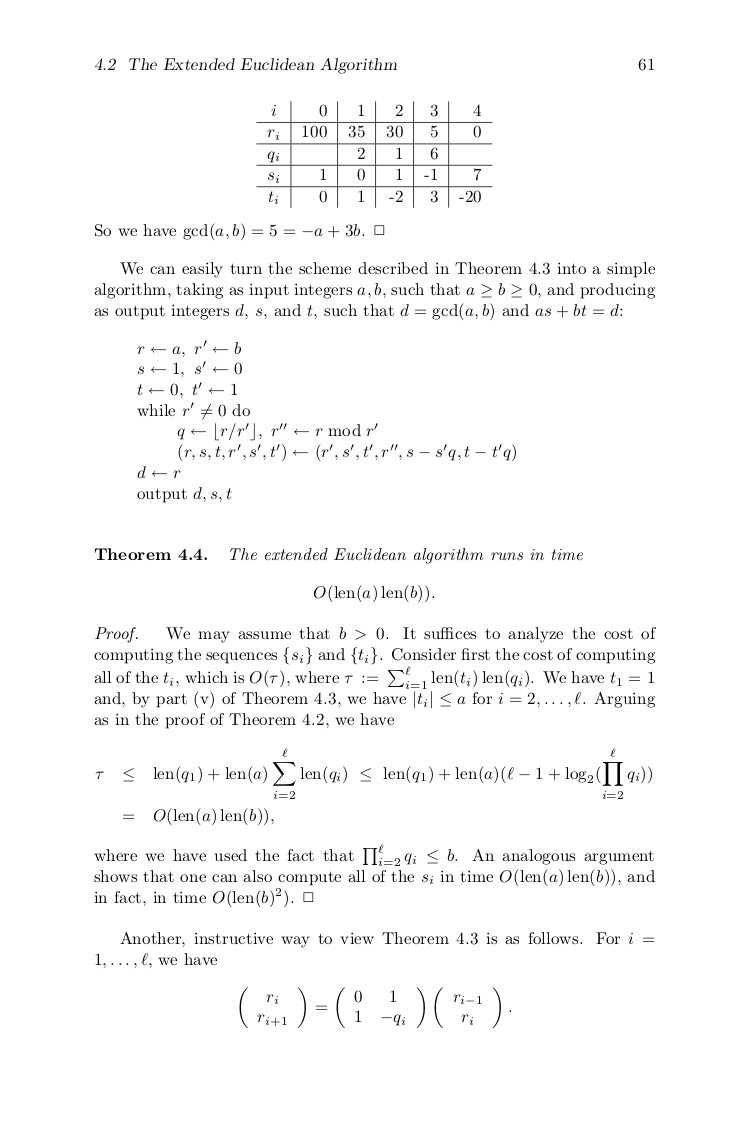Table: (256, 100, 492, 208)
formula: (95, 748, 651, 798), (239, 986, 511, 1028), (123, 807, 273, 826), (313, 584, 434, 603)
